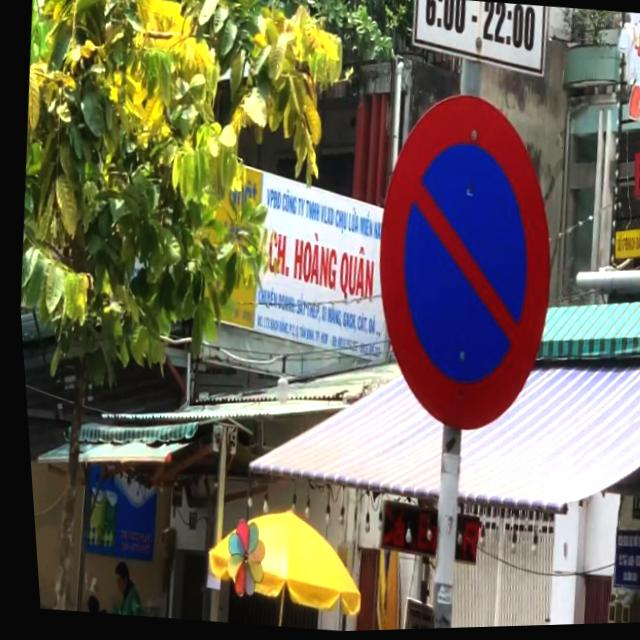Cam do xe: (347, 86, 575, 447)
